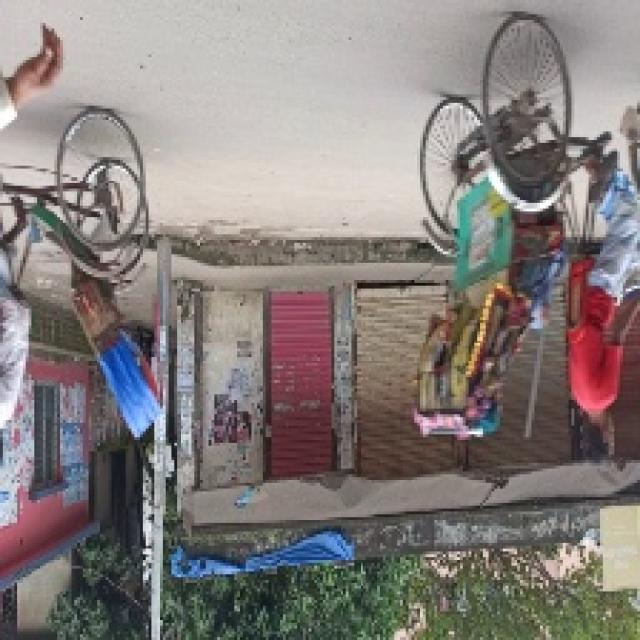rickshaw: (408, 35, 637, 463), (4, 108, 172, 483)
